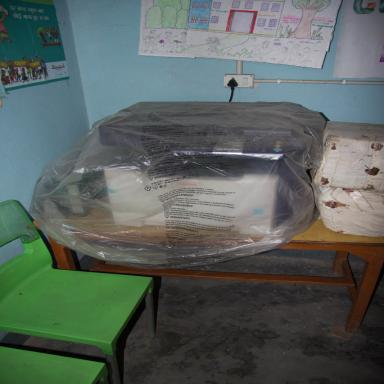plasticbag: (26, 100, 328, 270)
